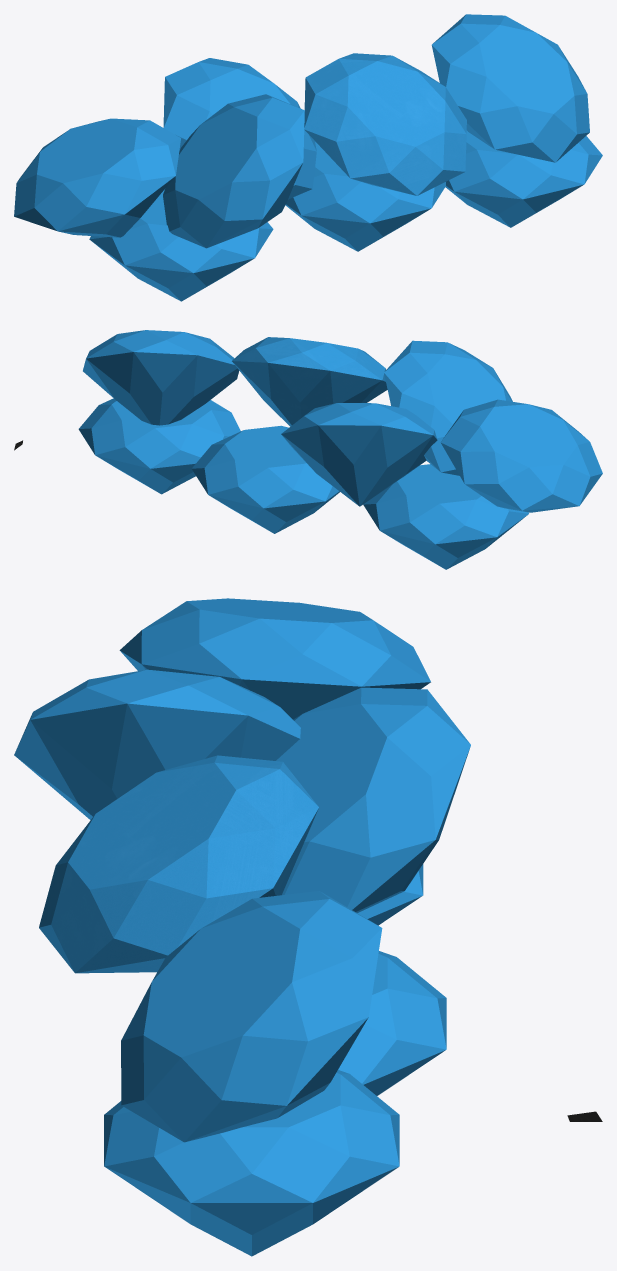
File: Gem.fbx
The picture shows the model from 3 angles, top to bottom: view 1: azimuth 30°, elevation 25°; view 2: azimuth 150°, elevation 25°; view 3: azimuth 270°, elevation 25°; orthographic projection. The views are drawn at different scales.
Visible parts, largest first — view 1: Plane.008; view 2: Plane.008; view 3: Plane.008.
Boxes of the visible parts, x1,y1,x2,y2 form: Plane.008: (14, 14, 602, 301); Plane.008: (14, 330, 602, 569); Plane.008: (14, 598, 602, 1256).
Bounding box in the file's own units: 1045 × 370 × 555.
